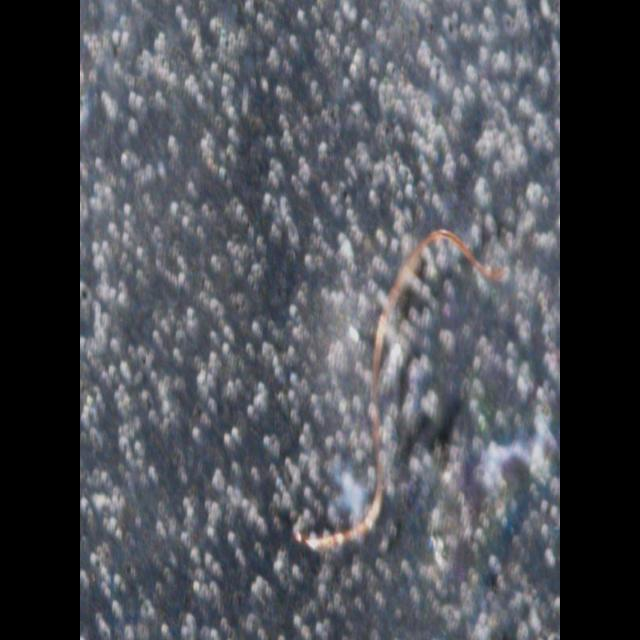Fibre: (294, 226, 510, 554)
